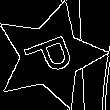P_E: (19, 30, 81, 82)
